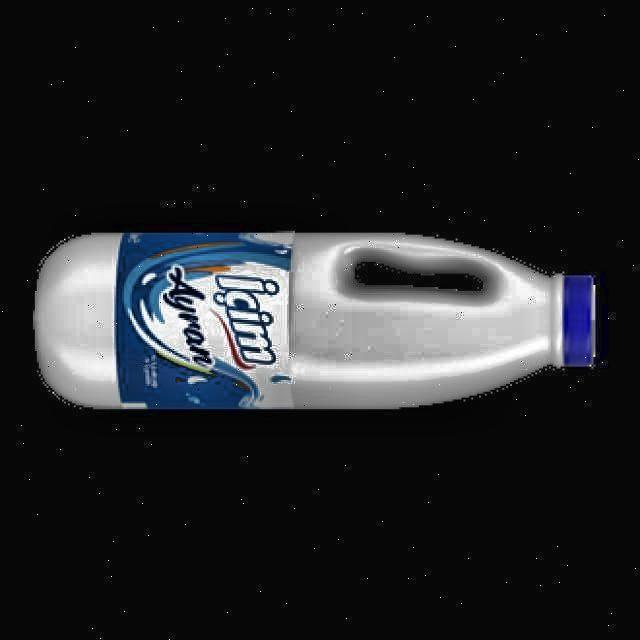plastic: (35, 233, 595, 409)
